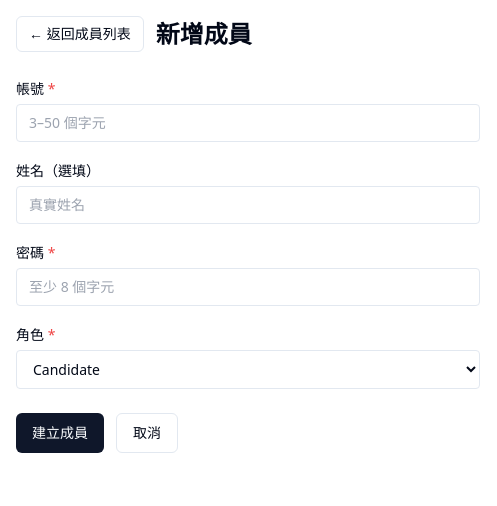
Test case: MemberCreatePage › shows "帳號至少需要 3 個字元" when username has fewer than 3 characters
In the field labelled "帳號 *": (248, 123) [16, 104, 480, 142], type "ab"
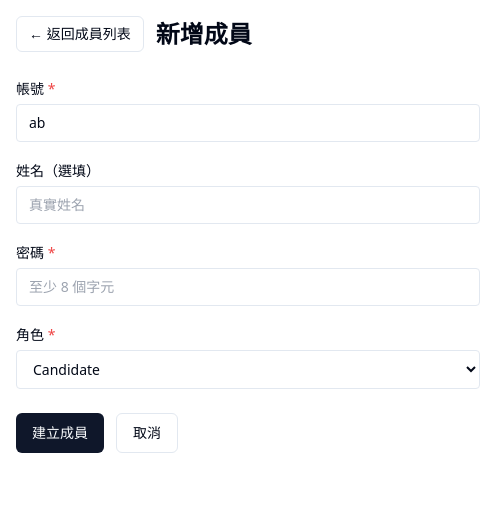
In the password field labelled "密碼 *": (248, 287) [16, 268, 480, 306], type "password8"
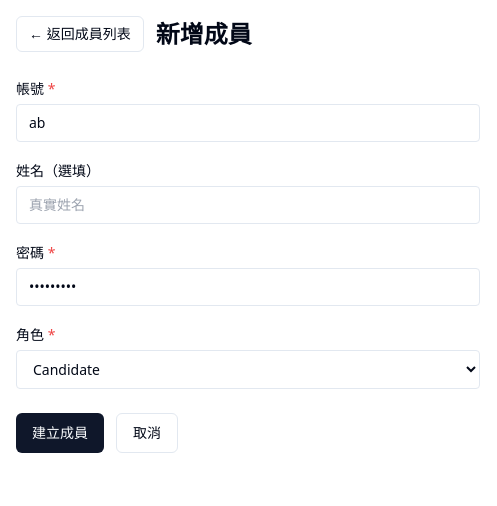
Click the button "建立成員": (60, 433) [16, 413, 104, 453]
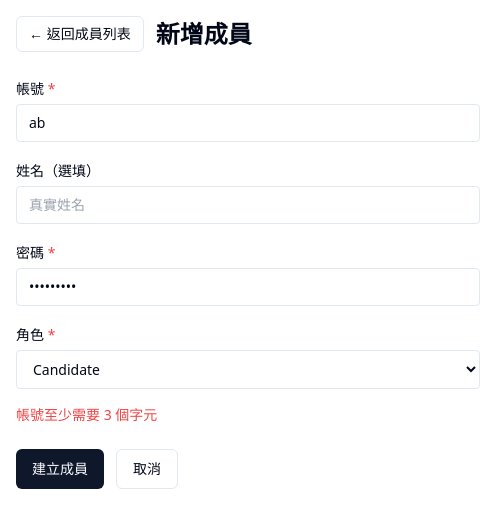
Check: the text "帳號至少需要 3 個字元" is shown, box [16, 405, 157, 424]
